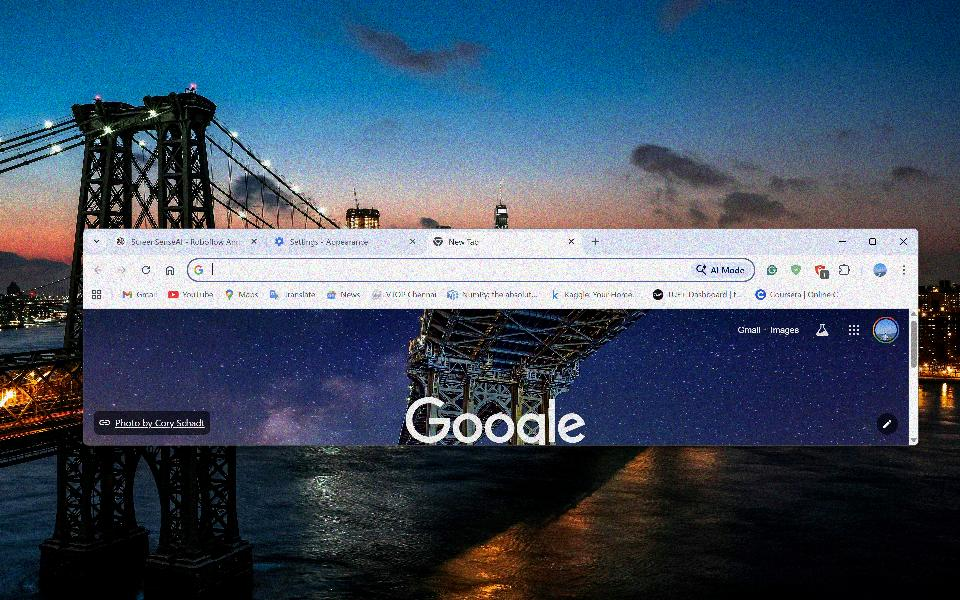close_button: (892, 232, 915, 251)
maximize_button: (862, 231, 885, 252)
minimize_button: (833, 233, 852, 251)
